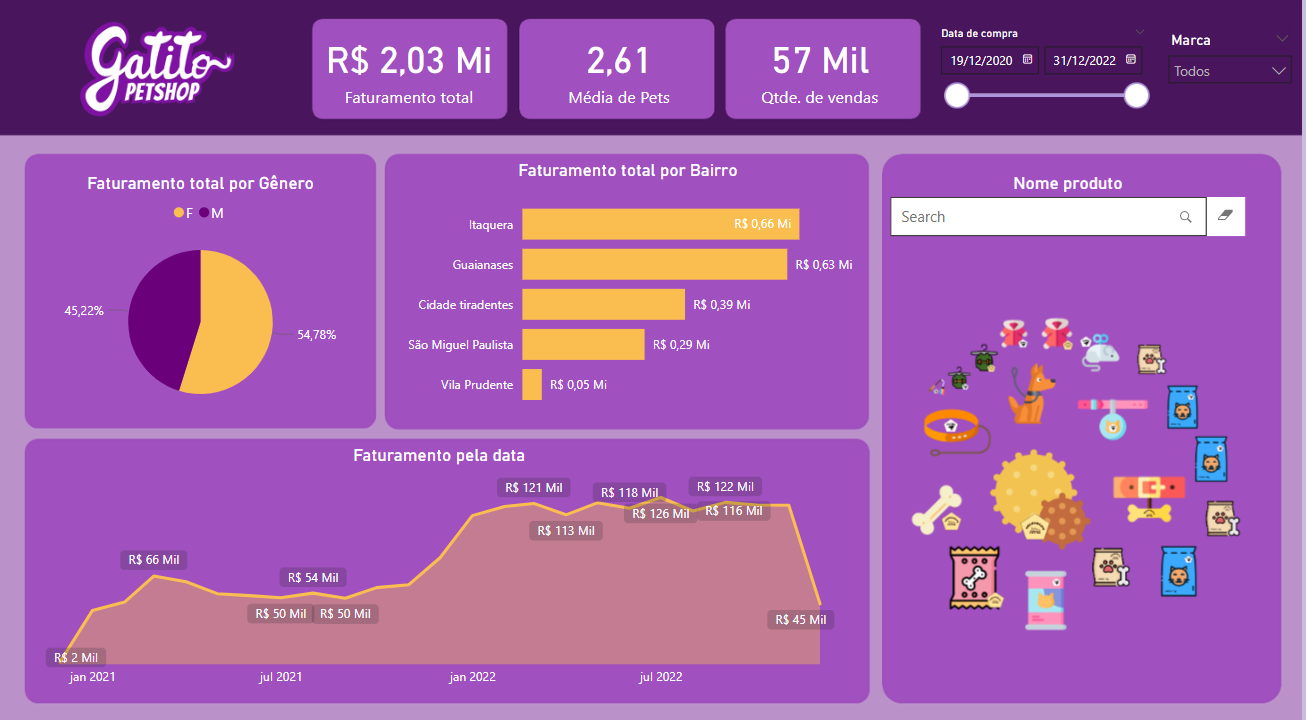

What the dashboard file says about the page in this screenshot:
{"tool":"powerbi","page":{"name":"Página 1","canvas":[1280,720],"ordinal":0},"visuals":[{"type":"card","fields":{"Values":["Avg(Clientes.Pets)"]},"box":[520.2,25.8,179.1,90.8],"z":0},{"type":"card","fields":{"Values":["Sum(Vendas.Quantidade)"]},"box":[716.6,25.8,180.4,90.8],"z":1000},{"type":"card","fields":{"Values":["Vendas.Faturamento total"]},"box":[311.7,25.8,184.1,90.8],"z":2000},{"type":"pieChart","fields":{"Category":["Clientes.Gênero"],"Y":["Vendas.Faturamento total"]},"box":[33.1,174.2,331.3,245.4],"z":3000},{"type":"clusteredBarChart","fields":{"Category":["Clientes.Bairro"],"Y":["Vendas.Faturamento total"]},"box":[389,162,458.9,257.7],"z":4000},{"type":"areaChart","title":"Faturamento pela data","fields":{"Category":["Vendas.Data de compra.Variation.Hierarquia de datas.Ano","Vendas.Data de compra.Variation.Hierarquia de datas.Trimestre","Vendas.Data de compra.Variation.Hierarquia de datas.Mês","Vendas.Data de compra.Variation.Hierarquia de datas.Dia"],"Y":["Vendas.Faturamento total"]},"box":[33.1,441.7,800,245.4],"z":5000},{"type":"ImageGrid_FC5183B9_926C_45E0_B5F7_0CE9EAF1DA9B","fields":{"ImageURL":["Produtos.Url img"]},"box":[871.2,254,375.5,433.1],"z":6000},{"type":"textFilter25A4896A83E0487089E2B90C9AE57C8A","fields":{"field":["Produtos.Nome produto"]},"box":[871.2,174.2,358.3,79.8],"z":7000},{"type":"slicer","fields":{"Values":["Produtos.Marca"]},"box":[1138.7,30.7,141.1,90.8],"z":8000},{"type":"slicer","fields":{"Values":["Vendas.Data de compra"]},"box":[912.9,25.8,225.8,99.4],"z":9000}]}

Visuals, with their boxes in screenshot pixels (x1, y1, x2, y2), scaled from the page's 1280x720 canvas onto the 1306x720 screenshot:
card - Avg(Clientes.Pets): 531:26:714:117
card - Sum(Vendas.Quantidade): 731:26:915:117
card - Vendas.Faturamento total: 318:26:506:117
pieChart - Clientes.Gênero x Vendas.Faturamento total: 34:174:372:420
clusteredBarChart - Clientes.Bairro x Vendas.Faturamento total: 397:162:865:420
"Faturamento pela data" areaChart: 34:442:850:687
ImageGrid_FC5183B9_926C_45E0_B5F7_0CE9EAF1DA9B - Produtos.Url img: 889:254:1272:687
textFilter25A4896A83E0487089E2B90C9AE57C8A - Produtos.Nome produto: 889:174:1254:254
slicer - Produtos.Marca: 1162:31:1305:122
slicer - Vendas.Data de compra: 931:26:1162:125
